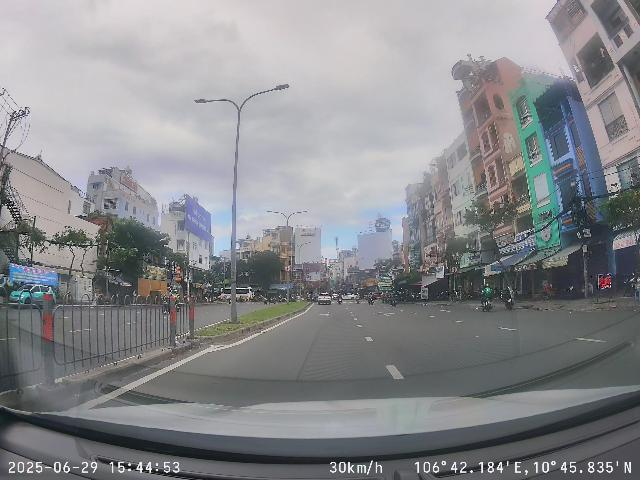136-cam-di-thang: (284, 264, 292, 272), (451, 266, 458, 273)
